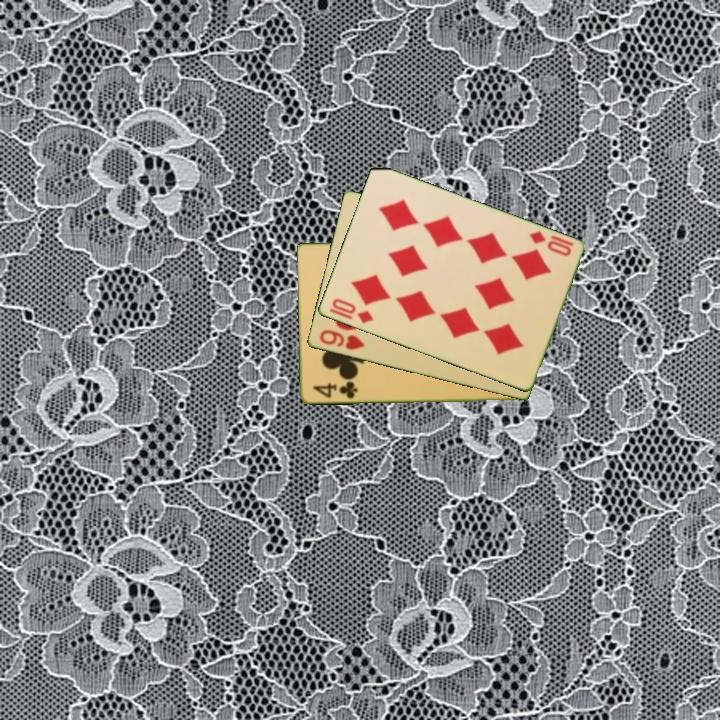10d: (525, 227, 574, 259), (328, 295, 376, 327)
4c: (309, 378, 360, 402)
9h: (316, 326, 368, 353)
